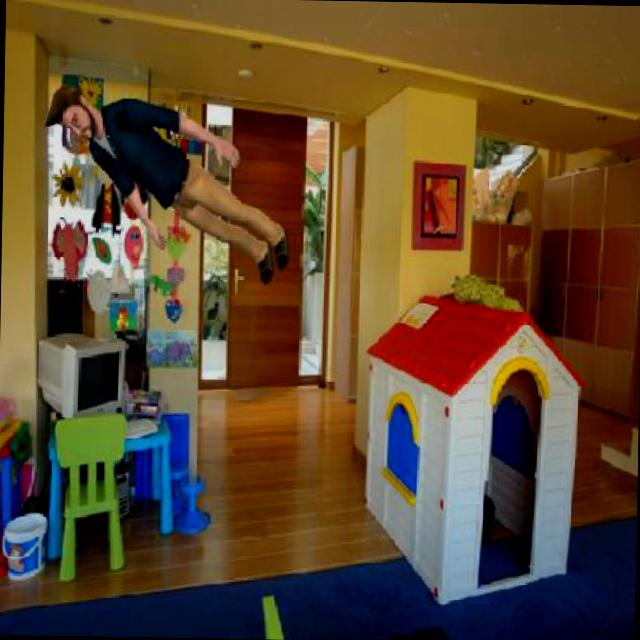Person: (37, 81, 296, 288)
